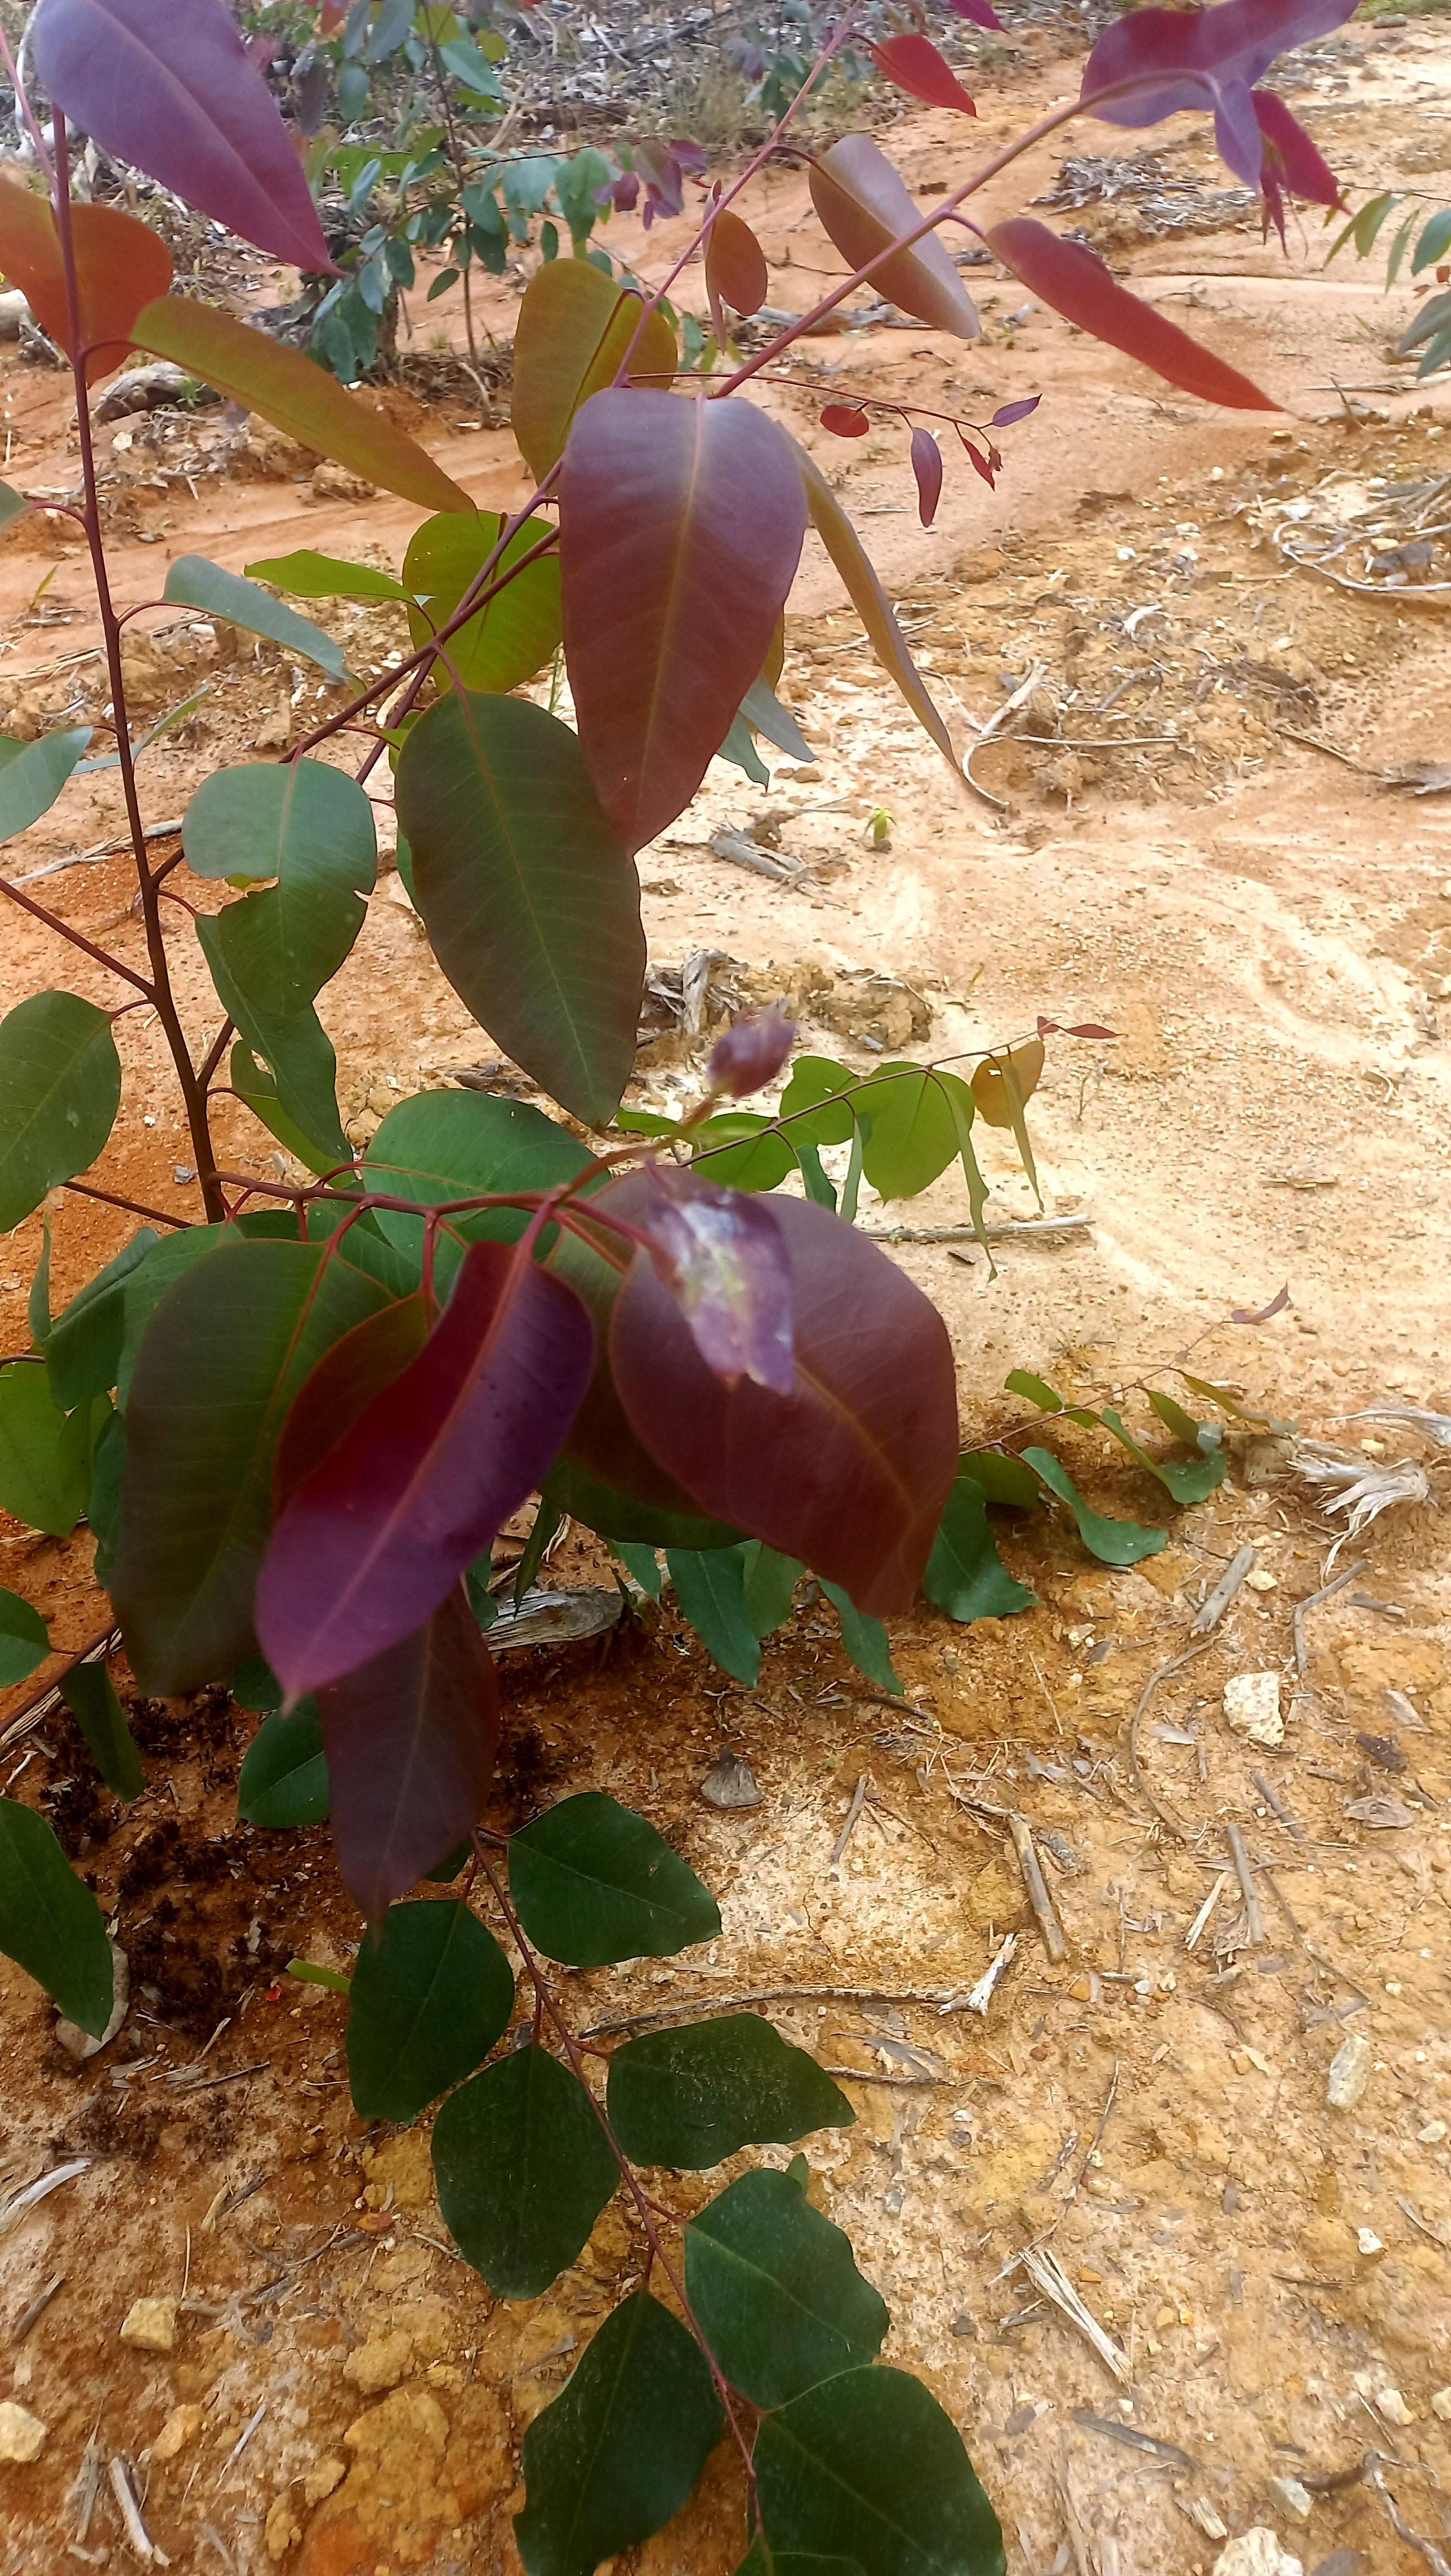Leaf Roller - Leaf: (637, 1166, 793, 1392), (685, 996, 814, 1108)
